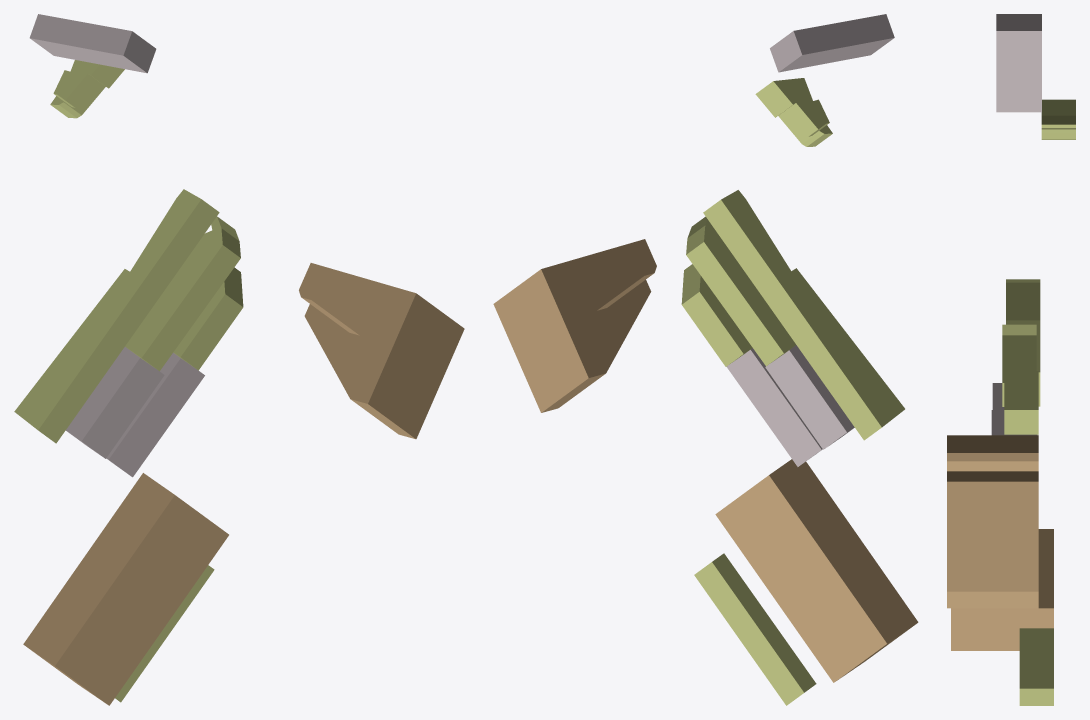
3 views of the same model, side by side, from view 1: azimuth 30°, elevation 25°; view 2: azimuth 150°, elevation 25°; view 3: azimuth 270°, elevation 25° (orthographic). The views are drawn at different scales.
Visible parts, largest first — view 1: 0_0_1_3_1_1_2; view 2: 0_0_1_3_1_1_2; view 3: 0_0_1_3_1_1_2.
Part boxes in pixels (x1,y1,x2,y2): 0_0_1_3_1_1_2: (14, 14, 464, 705); 0_0_1_3_1_1_2: (493, 14, 918, 705); 0_0_1_3_1_1_2: (947, 14, 1075, 705).
Bounding box in the file's own units: 115 × 191 × 33.8.
